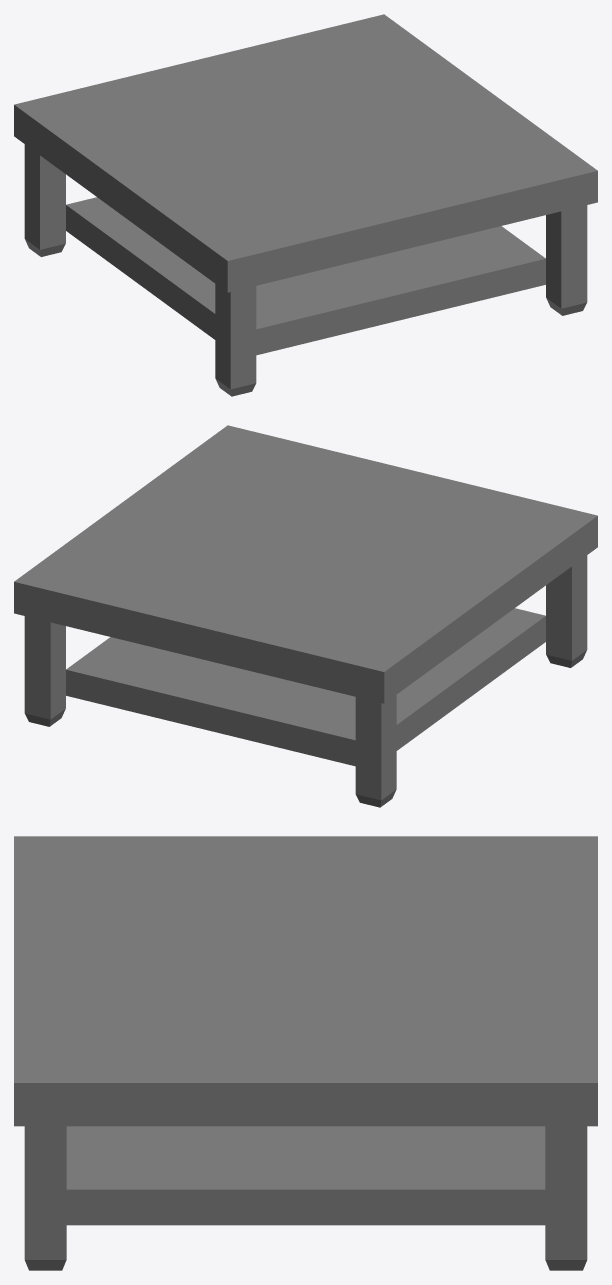
Rendered from Table_2.fbx.
3 views of the same model, one above another, from view 1: azimuth 30°, elevation 25°; view 2: azimuth 150°, elevation 25°; view 3: azimuth 270°, elevation 25° (orthographic). The views are drawn at different scales.
Parts seen in each view (by area): view 1: Table_2; view 2: Table_2; view 3: Table_2.
Part boxes in pixels (x1=…): Table_2: x1=14, y1=14, x2=597, y2=396; Table_2: x1=14, y1=425, x2=597, y2=807; Table_2: x1=14, y1=836, x2=597, y2=1270.
Size of the model in its own units: 0.7595 by 0.2783 by 0.7595.
